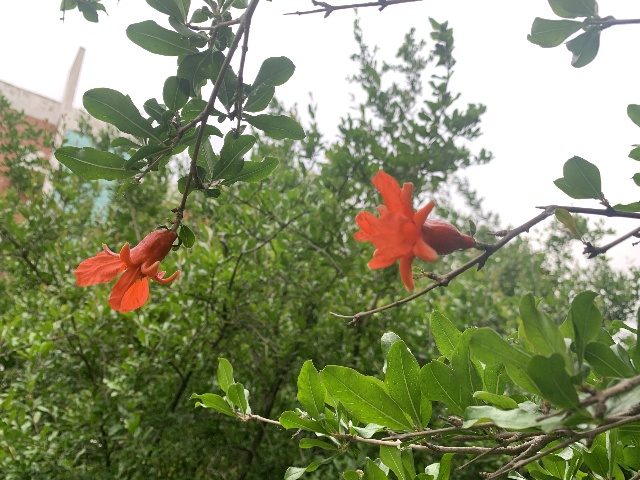flower: (353, 169, 474, 292), (73, 227, 179, 313)
